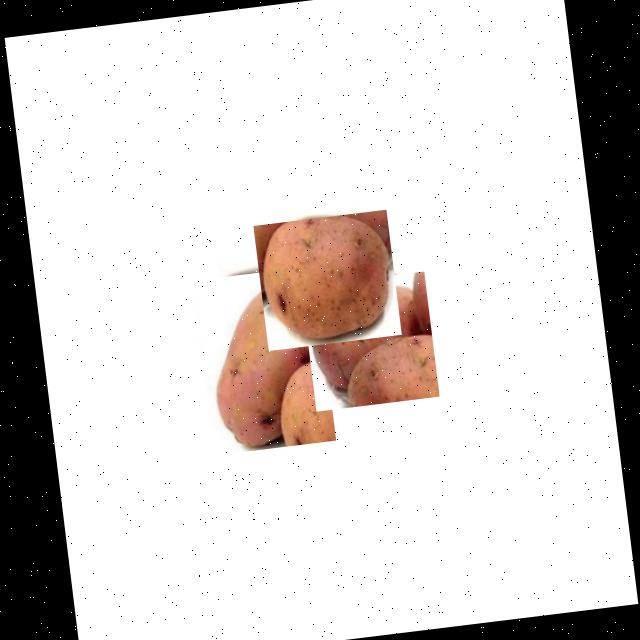Potato: (190, 264, 335, 454), (252, 208, 400, 349), (300, 270, 438, 410)
